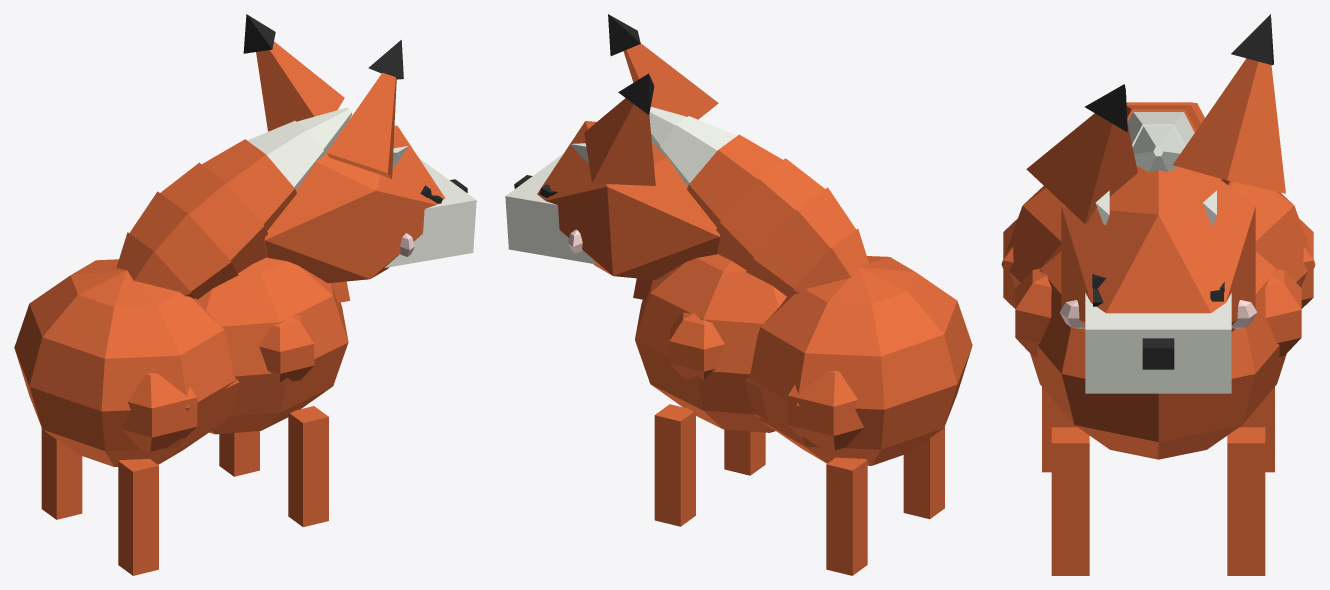
File: classicAliFox.glb
3 renders of one model, left to right at view 1: azimuth 30°, elevation 25°; view 2: azimuth 150°, elevation 25°; view 3: azimuth 270°, elevation 25°, orthographic. The views are drawn at different scales.
Visible parts, largest first — view 1: fox-hips-mesh, fox-walk-head-shell, fox-chest-mesh, fox-tail-flame-5, fox-tail-flame-4, fox-walk-leg-0, fox-walk-leg-2, n86, n93, n6, fox-tail-flame-6, n63 (+8 smaller); view 2: fox-hips-mesh, fox-chest-mesh, fox-walk-head-shell, fox-tail-flame-5, fox-tail-flame-4, fox-walk-leg-1, n86, fox-walk-leg-3, n4, fox-tail-flame-6, n63, n93 (+8 smaller); view 3: fox-walk-head-shell, fox-chest-mesh, n63, n86, fox-hips-mesh, n93, fox-walk-leg-0, fox-walk-leg-1, n47, n49, fox-tail-flame-tip, fox-tail-flame-7 (+10 smaller).
Boxes of the visible parts, x1,y1,x2,y2 form: fox-hips-mesh: [14, 259, 236, 466]; fox-walk-head-shell: [263, 125, 444, 283]; fox-chest-mesh: [198, 257, 348, 434]; fox-tail-flame-5: [160, 162, 267, 273]; fox-tail-flame-4: [129, 191, 238, 299]; fox-walk-leg-0: [288, 406, 328, 527]; fox-walk-leg-2: [118, 459, 158, 575]; n86: [256, 41, 344, 131]; n93: [326, 72, 396, 179]; n6: [122, 373, 197, 451]; fox-tail-flame-6: [202, 139, 296, 230]; n63: [384, 158, 476, 267]; fox-hips-mesh: [748, 256, 972, 465]; fox-chest-mesh: [635, 254, 786, 432]; fox-walk-head-shell: [537, 121, 720, 280]; fox-tail-flame-5: [716, 158, 824, 270]; fox-tail-flame-4: [746, 187, 856, 296]; fox-walk-leg-1: [654, 404, 695, 526]; n86: [584, 98, 655, 185]; fox-walk-leg-3: [826, 457, 867, 575]; n4: [787, 370, 863, 450]; fox-tail-flame-6: [687, 134, 782, 227]; n63: [505, 154, 597, 264]; n93: [623, 43, 718, 119]; fox-walk-head-shell: [1061, 165, 1255, 331]; fox-chest-mesh: [1030, 244, 1286, 459]; n63: [1085, 293, 1231, 393]; n86: [1173, 58, 1285, 193]; fox-hips-mesh: [1001, 182, 1315, 287]; n93: [1026, 113, 1137, 223]; fox-walk-leg-0: [1051, 427, 1089, 575]; fox-walk-leg-1: [1227, 427, 1265, 575]; n47: [1265, 268, 1301, 357]; n49: [1015, 268, 1051, 357]; fox-tail-flame-tip: [1132, 126, 1184, 171]; fox-tail-flame-7: [1127, 112, 1194, 147].
Size of the model in its own units: 1.3 by 1.29 by 0.644.
